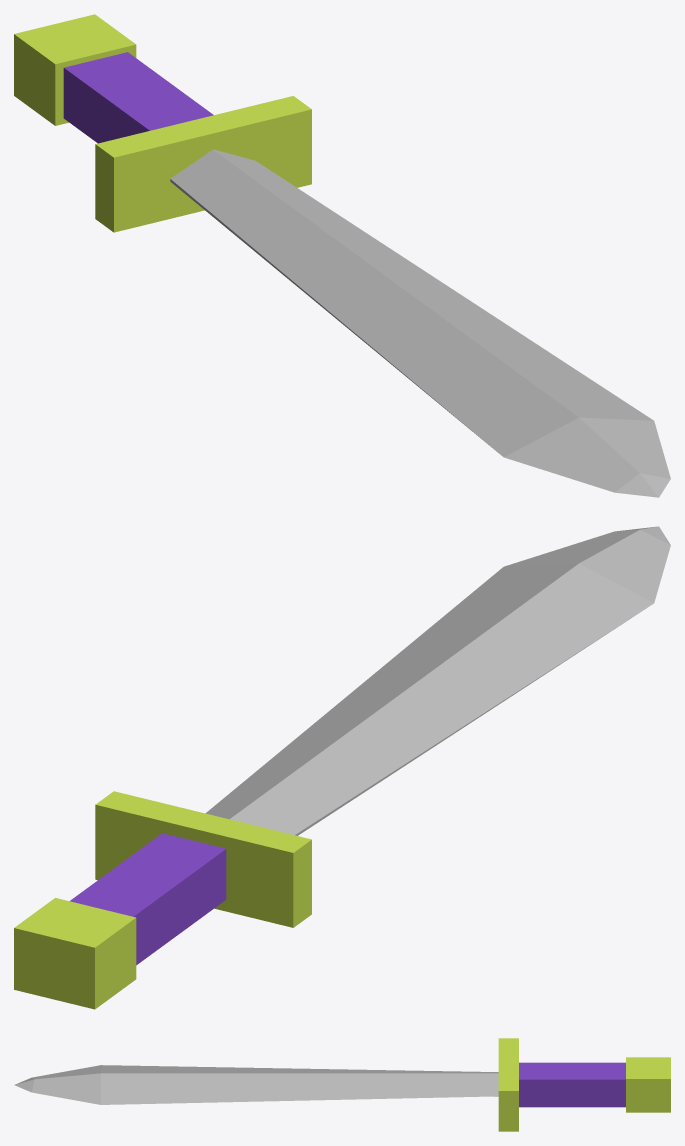
Rendered from Sword_01.fbx.
3 renders of one model, top to bottom at view 1: azimuth 30°, elevation 25°; view 2: azimuth 150°, elevation 25°; view 3: azimuth 270°, elevation 25°, orthographic. The views are drawn at different scales.
Parts seen in each view (by area): view 1: Sword_01; view 2: Sword_01; view 3: Sword_01.
Boxes of the visible parts, x1=… form: Sword_01: x1=14, y1=14, x2=670, y2=497; Sword_01: x1=14, y1=526, x2=670, y2=1009; Sword_01: x1=14, y1=1038, x2=670, y2=1131.
Bounding box in the file's own units: 0.1521 × 0.055 × 0.8039.
